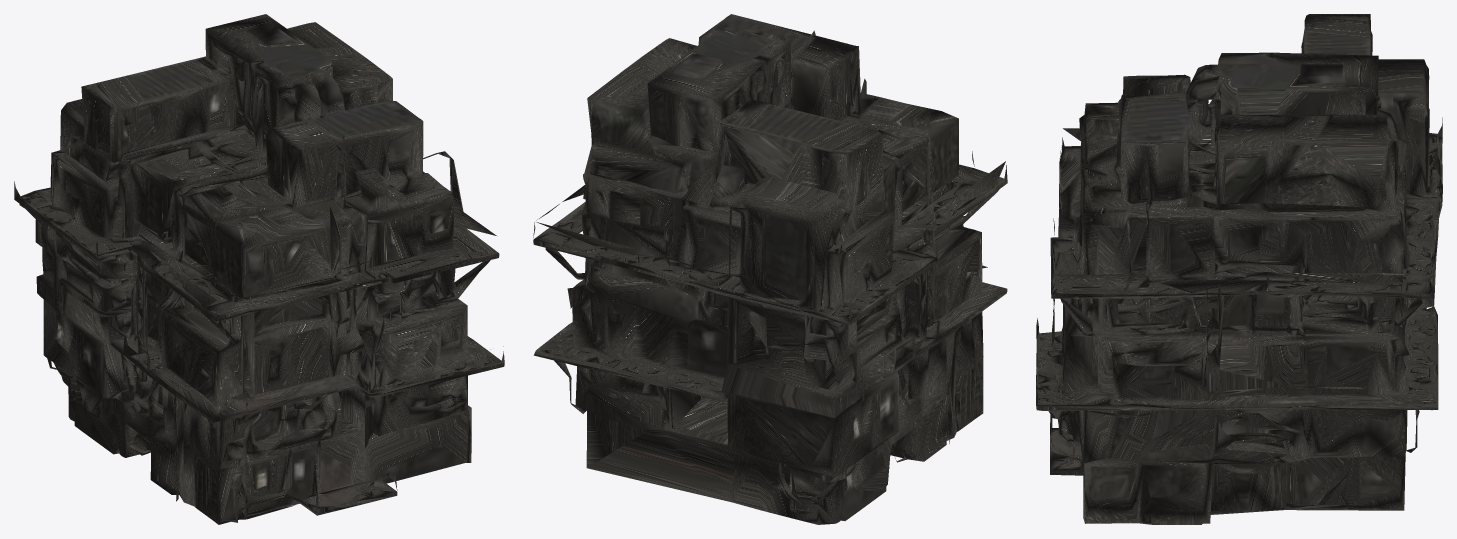
File: kafreneshack.lod1.glb
3 renders of one model, left to right at view 1: azimuth 30°, elevation 25°; view 2: azimuth 150°, elevation 25°; view 3: azimuth 270°, elevation 25°, orthographic. The views are drawn at different scales.
Parts seen in each view (by area): view 1: kafreneshack-centred; view 2: kafreneshack-centred; view 3: kafreneshack-centred.
Part boxes in pixels (bbox=[...]): kafreneshack-centred: bbox=[14, 14, 504, 524]; kafreneshack-centred: bbox=[533, 14, 1007, 524]; kafreneshack-centred: bbox=[1036, 14, 1442, 524].
Bounding box in the file's own units: 11.5 × 14 × 12.2.
Materials: 1 (1 with a texture image).
